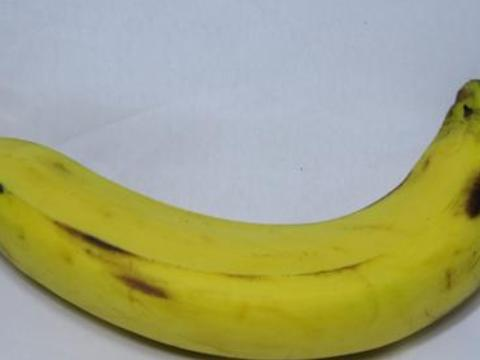freshripe: (0, 71, 479, 359)
